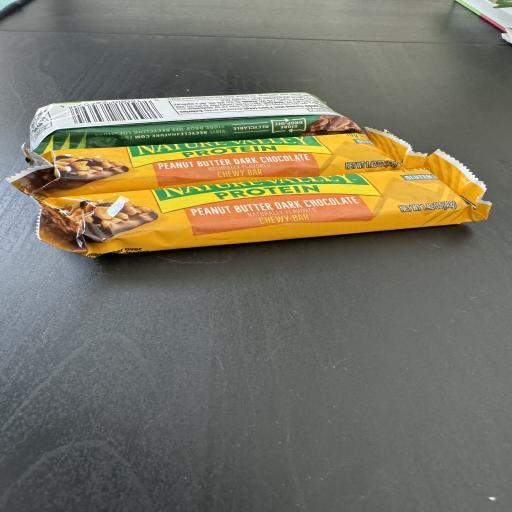granola: (38, 151, 490, 257), (8, 129, 425, 197), (30, 93, 362, 154)
